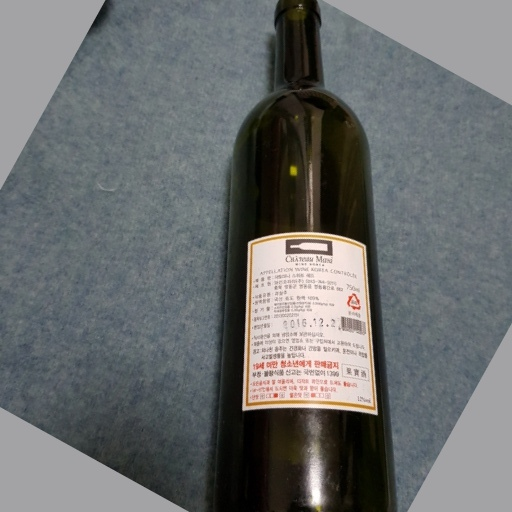Glass_2: (207, 4, 399, 512)
